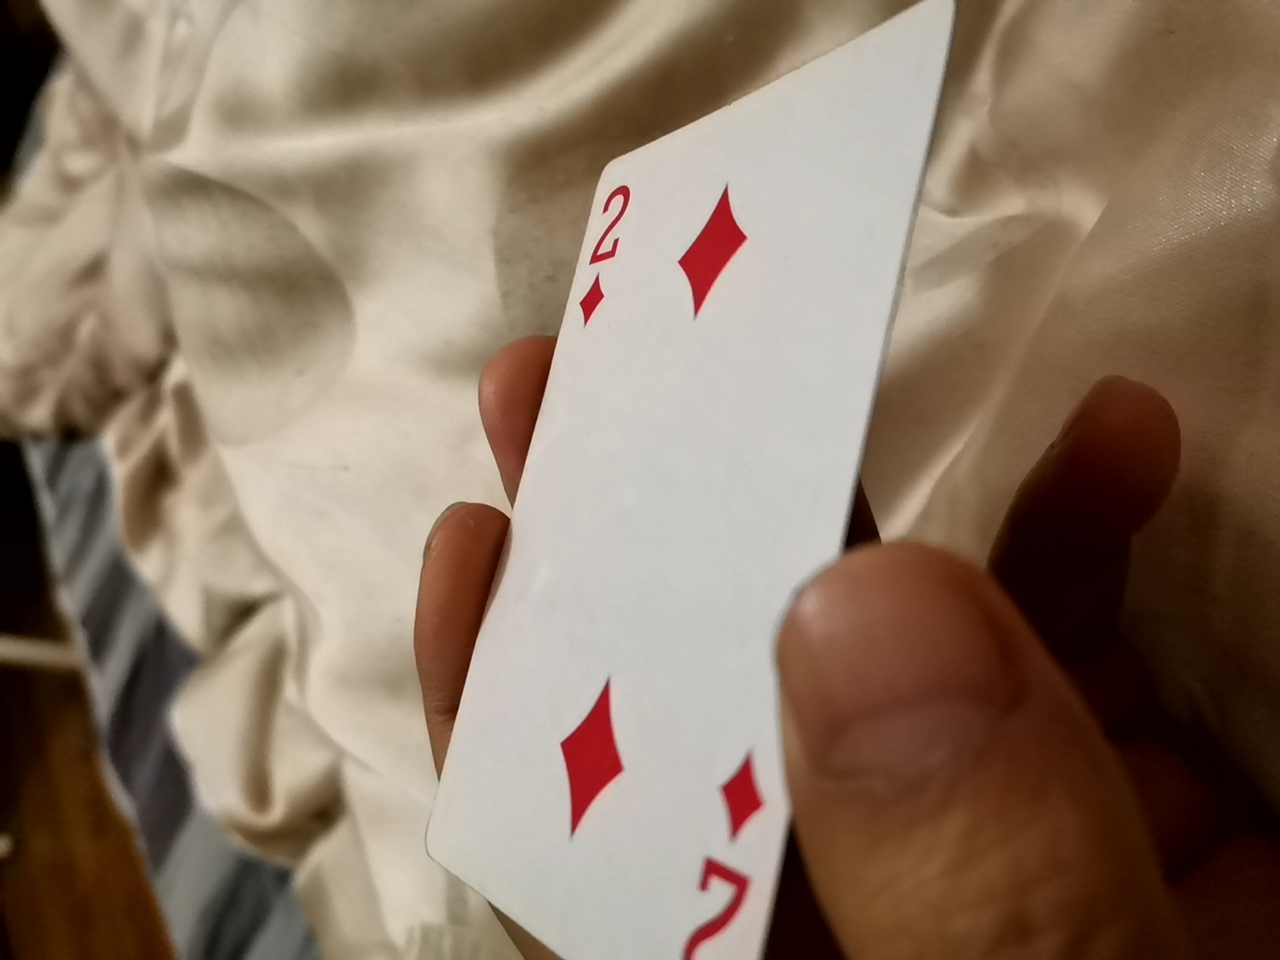fk 2: (418, 52, 905, 942)
